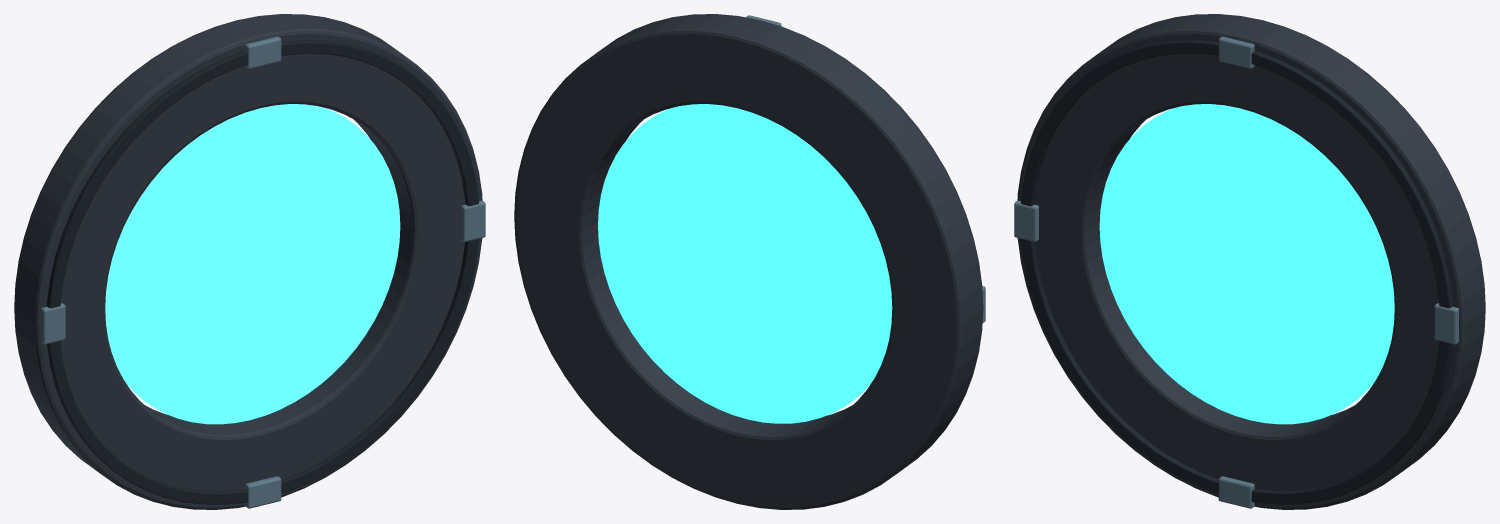
The model's file is PortaFinal.fbx.
3 renders of one model, left to right at view 1: azimuth 30°, elevation 25°; view 2: azimuth 150°, elevation 25°; view 3: azimuth 330°, elevation 25°, orthographic.
Visible parts, largest first — view 1: PortalFinal_AnelEstrutural, PortalFinal_NucleoEnergetico, PortalFinal_Acabamentos, PortalFinal_Detalhes; view 2: PortalFinal_AnelEstrutural, PortalFinal_NucleoEnergetico; view 3: PortalFinal_AnelEstrutural, PortalFinal_NucleoEnergetico, PortalFinal_Acabamentos, PortalFinal_Detalhes.
Part boxes in pixels (<box>): PortalFinal_AnelEstrutural: <box>14,14,482,509</box>; PortalFinal_NucleoEnergetico: <box>105,104,400,424</box>; PortalFinal_Acabamentos: <box>46,40,478,504</box>; PortalFinal_Detalhes: <box>41,36,485,508</box>; PortalFinal_AnelEstrutural: <box>514,14,983,509</box>; PortalFinal_NucleoEnergetico: <box>598,104,892,423</box>; PortalFinal_AnelEstrutural: <box>1017,14,1485,509</box>; PortalFinal_NucleoEnergetico: <box>1099,104,1394,424</box>; PortalFinal_Acabamentos: <box>1021,40,1453,504</box>; PortalFinal_Detalhes: <box>1014,36,1458,508</box>.
Size of the model in its own units: 320 by 320 by 35.5.
